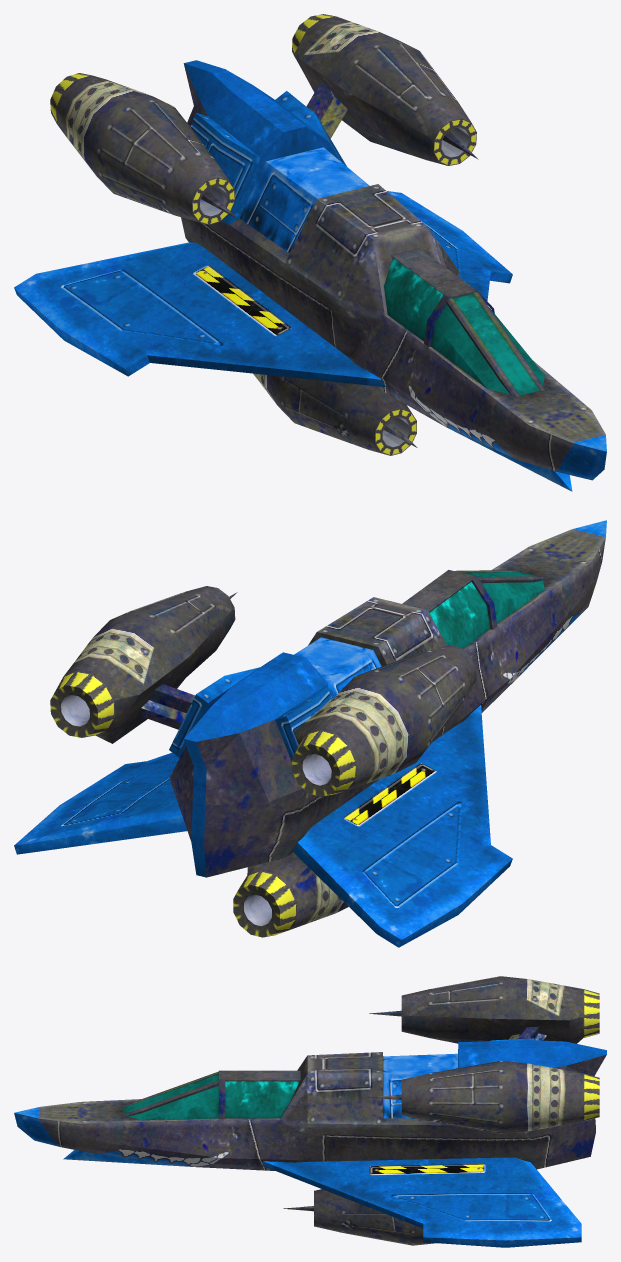
File: shark_pirate_blue.gltf
3 renders of one model, top to bottom at view 1: azimuth 30°, elevation 25°; view 2: azimuth 150°, elevation 25°; view 3: azimuth 270°, elevation 25°, orthographic. The views are drawn at different scales.
Visible parts, largest first — view 1: base; view 2: base; view 3: base.
Boxes of the visible parts, bbox=[...] form: base: bbox=[14, 14, 606, 491]; base: bbox=[14, 520, 606, 947]; base: bbox=[14, 976, 606, 1247].
Bounding box in the file's own units: 4.45 × 3.25 × 7.96.
1 material, 1 textured.
